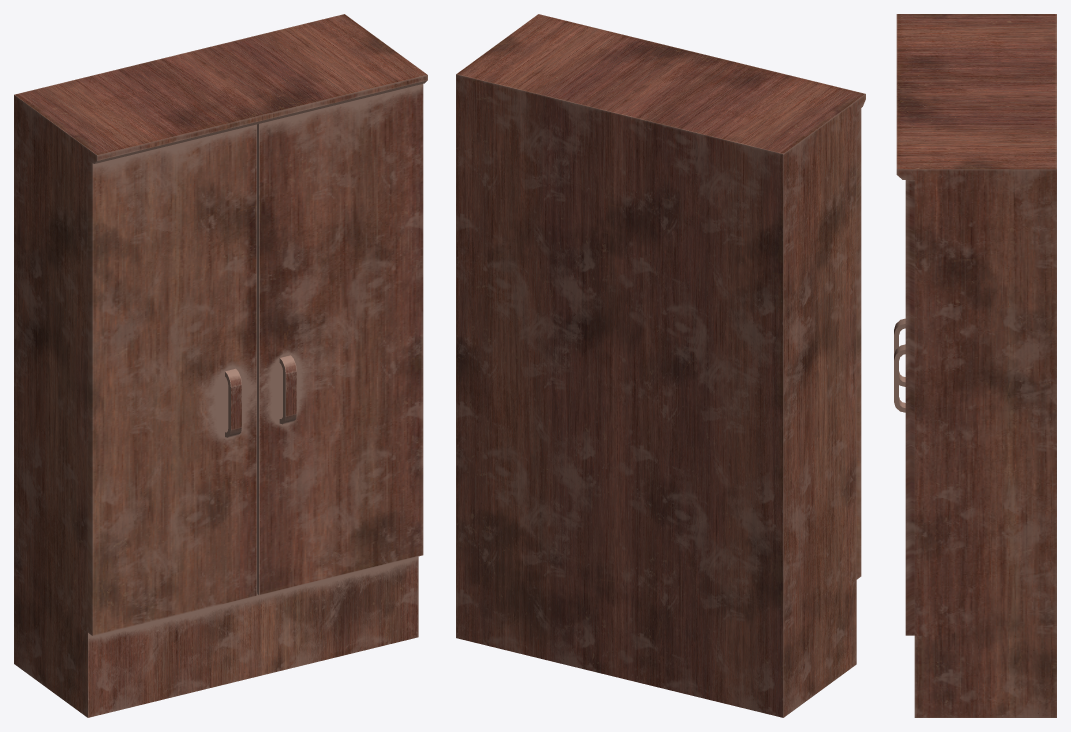
File: Wardrobe.fbx
3 renders of one model, left to right at view 1: azimuth 30°, elevation 25°; view 2: azimuth 150°, elevation 25°; view 3: azimuth 270°, elevation 25°, orthographic. The views are drawn at different scales.
Visible parts, largest first — view 1: Cube; view 2: Cube; view 3: Cube.
Part boxes in pixels (x1,y1,x2,y2): Cube: [14, 14, 427, 717]; Cube: [456, 14, 865, 717]; Cube: [894, 14, 1056, 717].
Bounding box in the file's own units: 122 × 200 × 53.85.
